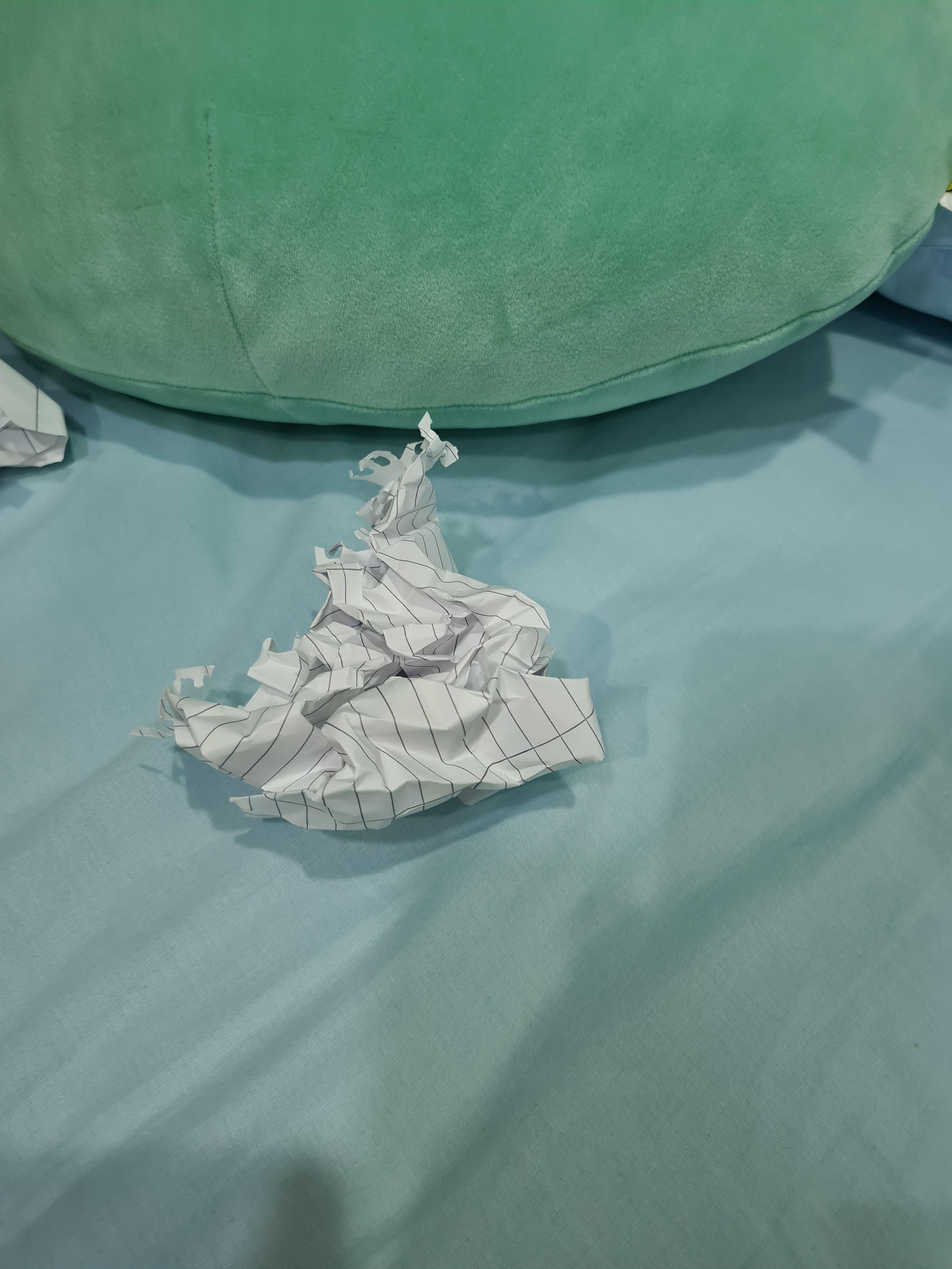paper: (167, 435, 615, 838)
